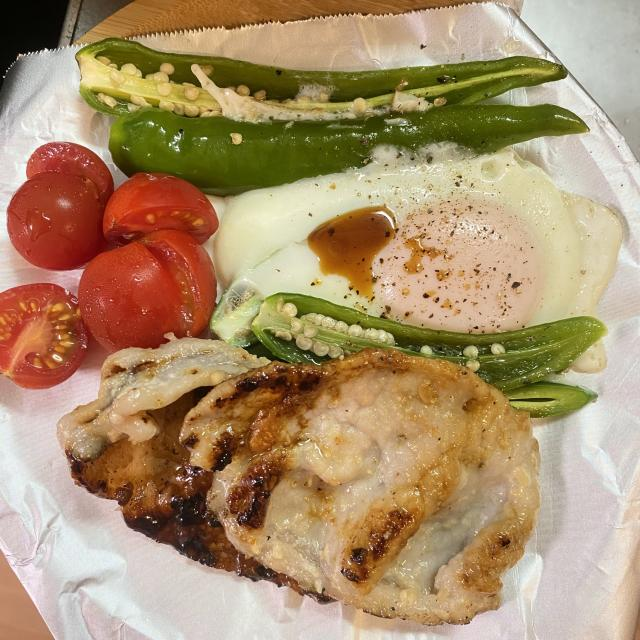OK cooked pork,: (179, 345, 551, 628), (45, 332, 333, 607)
